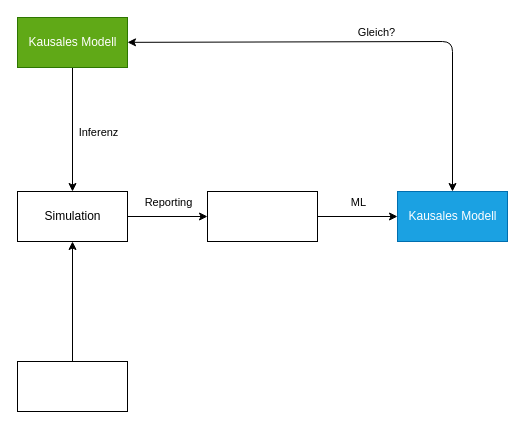
Image size: 525x429. Some labels were removed from this diagram. The shapes that lost their labels are listed below. From the top down, each one's centre as x and y in pixels, then its label:
[262,216]: Daten
[72,386]: Grundrauschen
